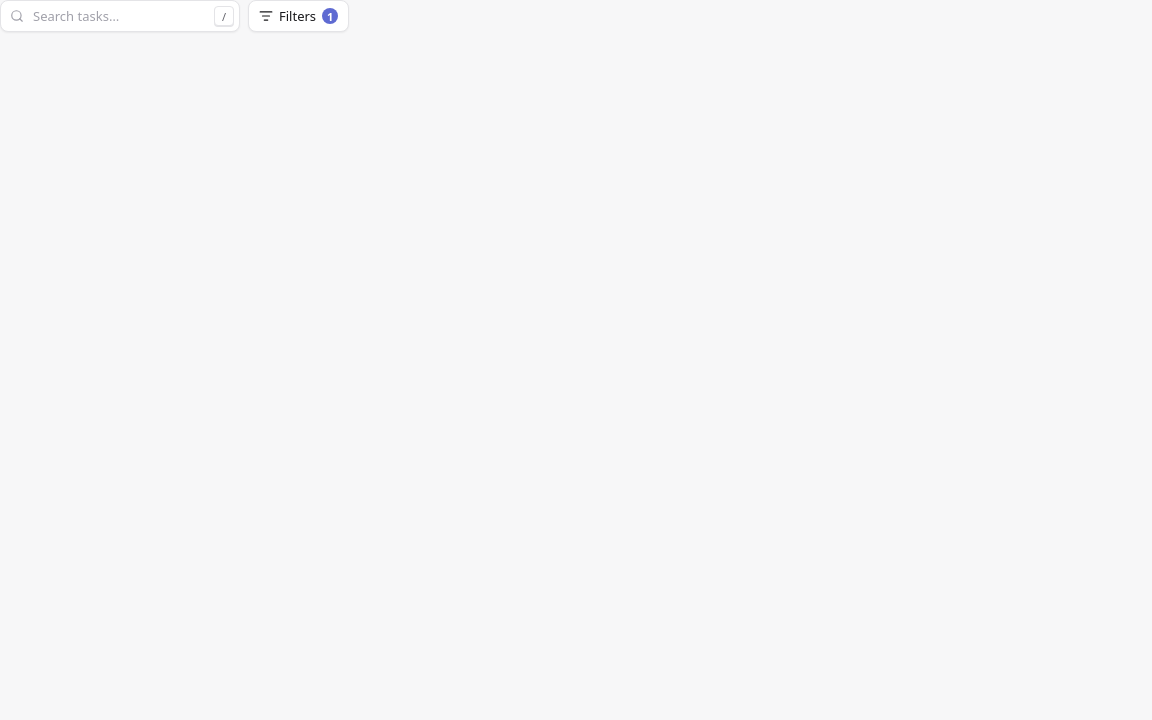
it: FilterBar › below 640 px › keeps search and collapses the groups into one Filters button
The width and height of the screenshot is (1152, 720).
Later steps or results of the test are not shown.
Expected: the search field labelled "Search tasks" is shown, [0, 0, 240, 32]
Expected: the button "Priority" is not shown
Click the button named "Filters, 1 active": coordinates (299, 16) [248, 0, 349, 32]
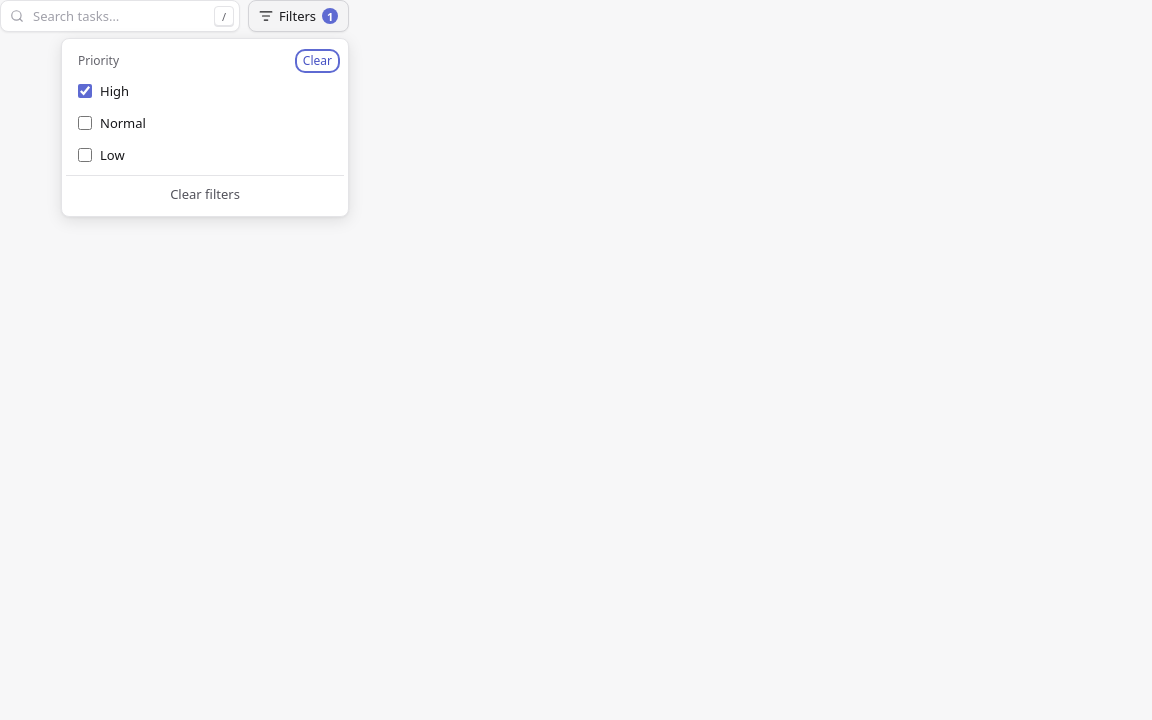
Expected: the checkbox labelled "High" is checked, [78, 84, 92, 98]
